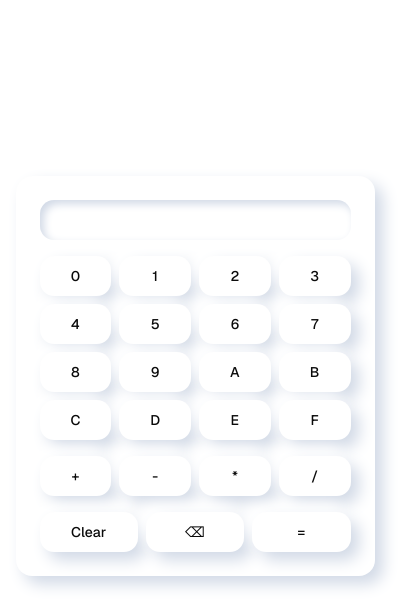
Scenario: Hex Calculator - Logic & Edge Case Tests › shows error for too many digits (e.g., ABC+1)
What coordinates should you click on to do the following:
click the button "A"
I would click on:
 (235, 372)
Its box is [199,352,271,392].
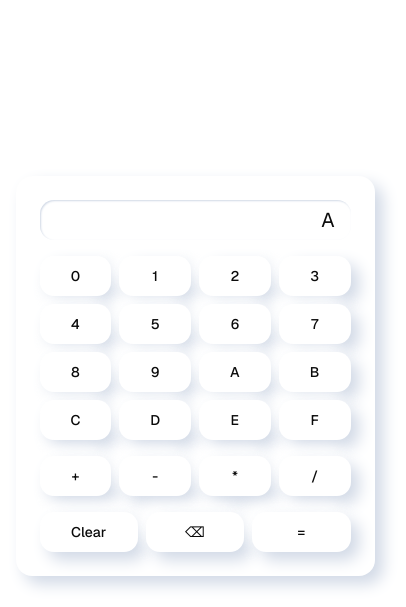
What coordinates should you click on to do the following:
click the button "B"
I would click on:
 (315, 372)
Its box is [279,352,351,392].
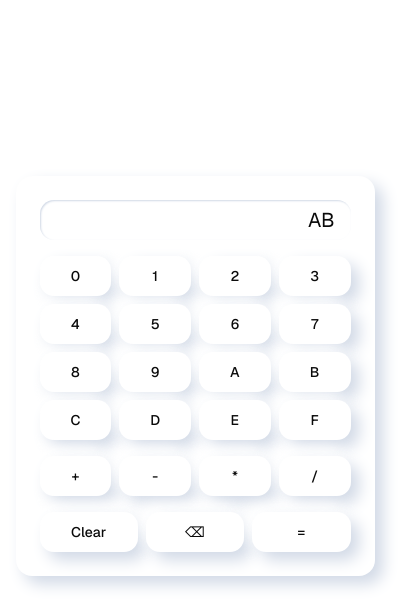
What coordinates should you click on to do the following:
click the button "C"
I would click on:
 (76, 420)
Its box is [40,400,112,440].
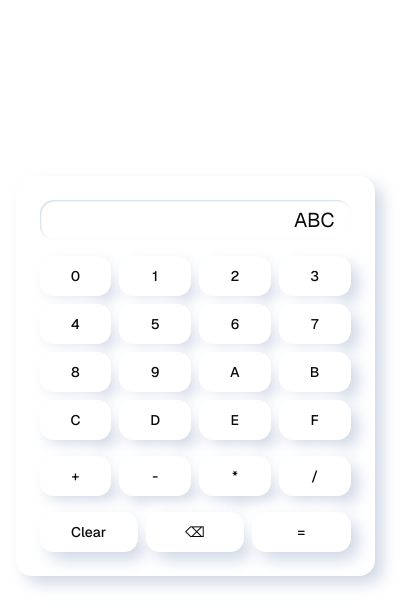
What coordinates should you click on to do the following:
click the button "+"
I would click on:
 (76, 476)
Its box is [40,456,112,496].
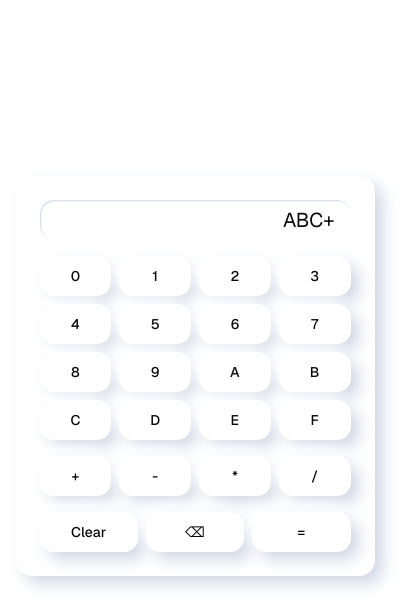
What coordinates should you click on to do the following:
click the button "1"
I would click on:
 (155, 276)
Its box is [119,256,191,296].
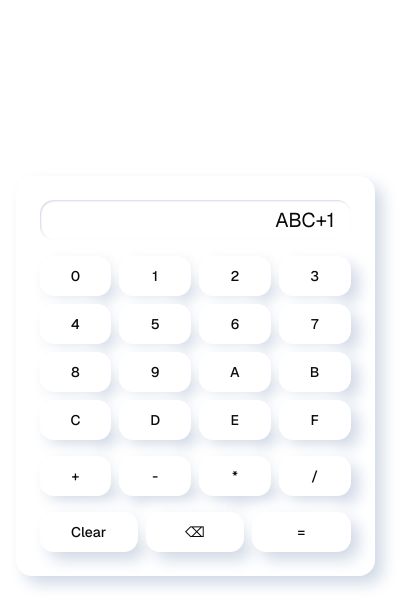
What coordinates should you click on to do the following:
click the button "="
I would click on:
 (301, 532)
Its box is [252,512,350,552].
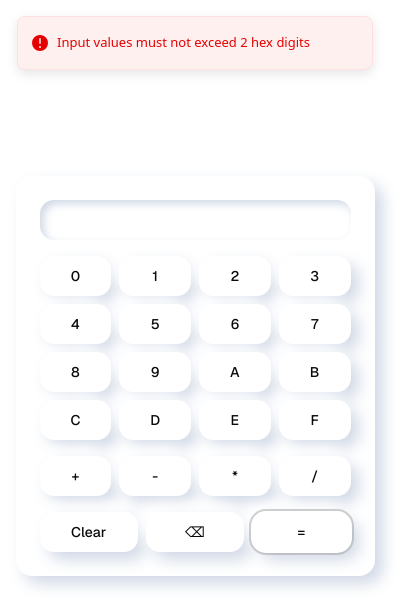
Now the list item "Input values must not exceed 2 hex digits" is shown, box [17,16,373,70]
